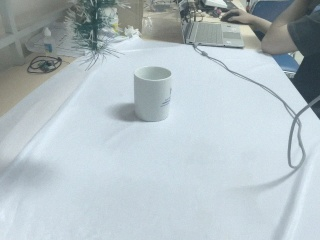cup: (133, 65, 173, 123)
